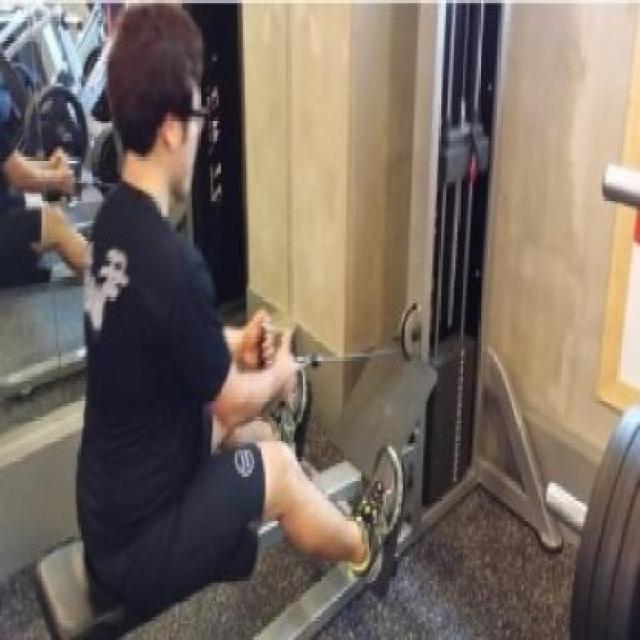Seated Cable Rows: (16, 0, 562, 640)
